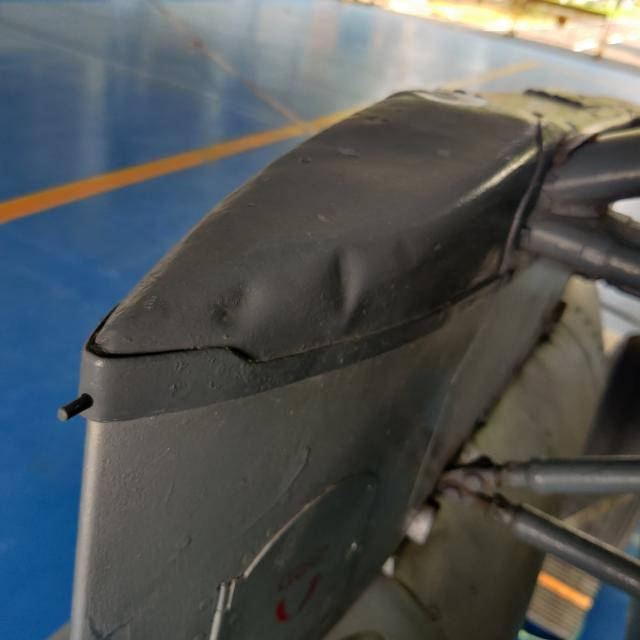dent: (298, 235, 379, 337), (194, 260, 273, 342)
